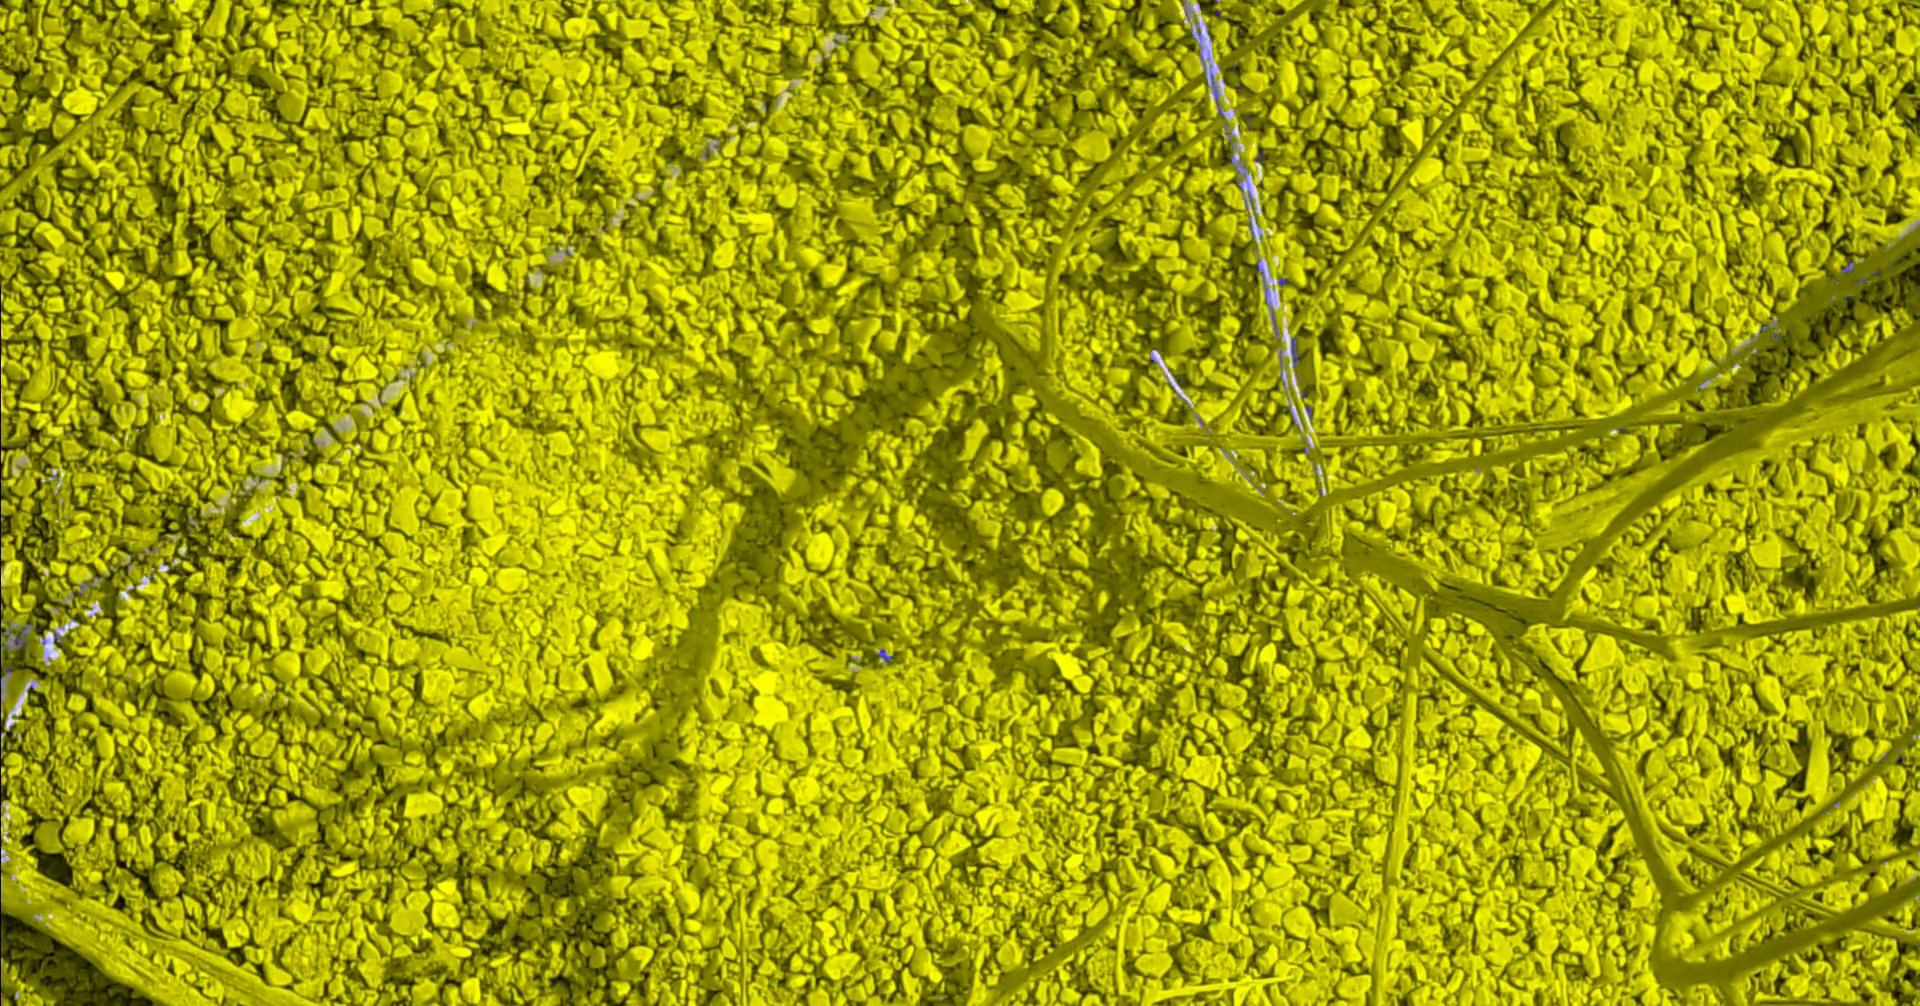ant: (13, 626, 27, 649), (1291, 337, 1298, 365)
